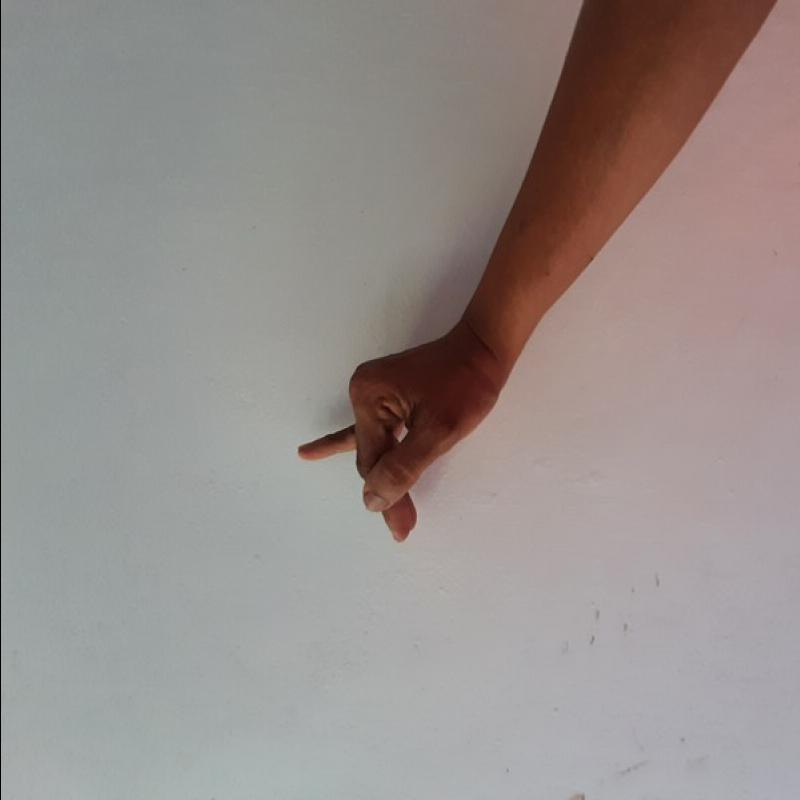Kartharee Mukham: (280, 326, 517, 549)
